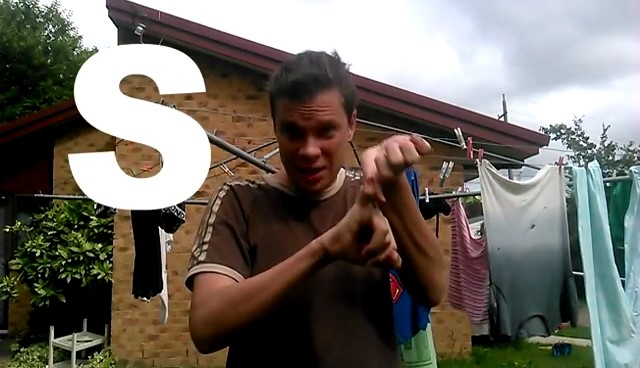S: (333, 127, 441, 282)
